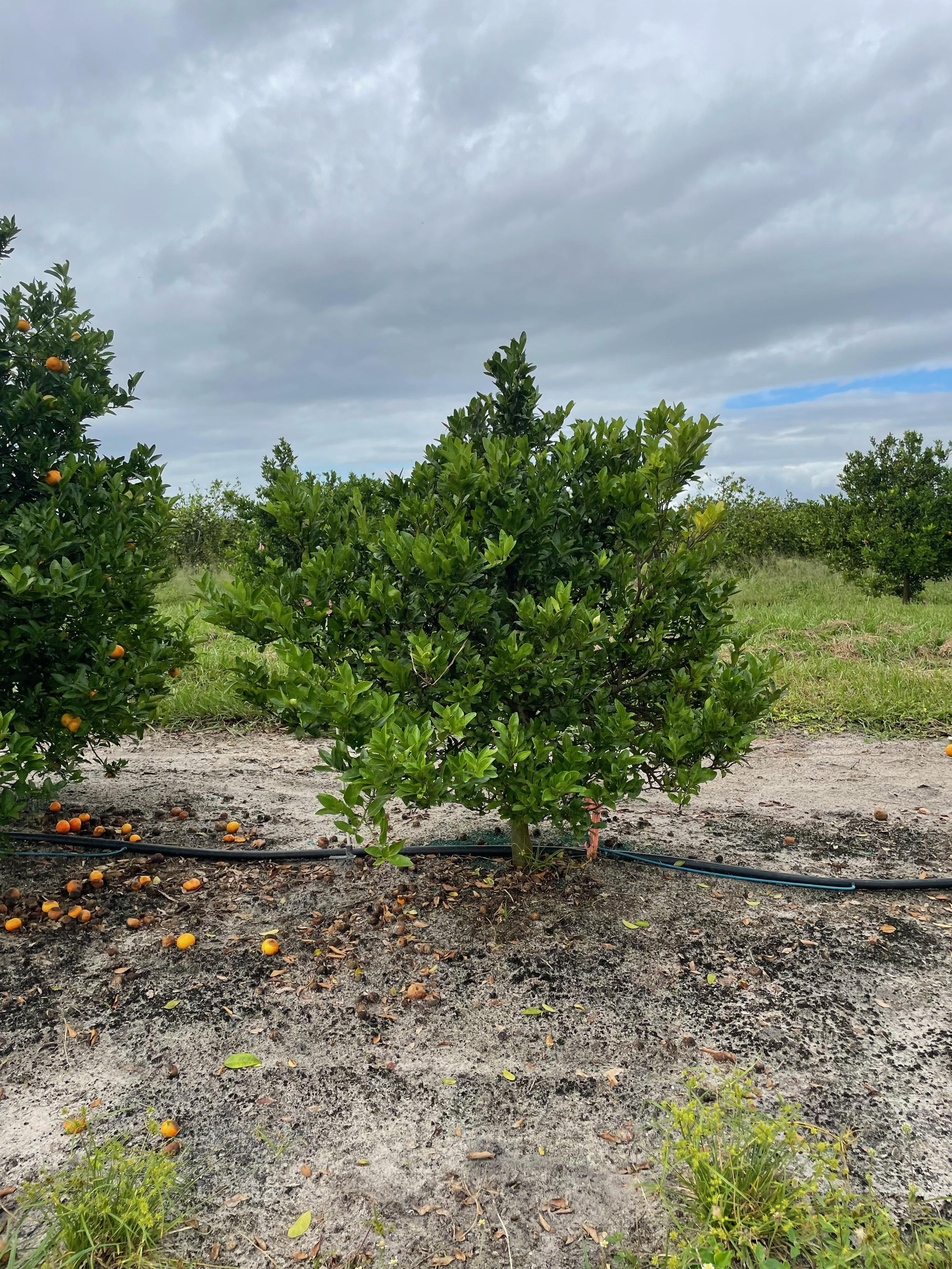fruit_on_ground: (42, 467, 65, 488), (105, 642, 127, 661), (45, 354, 64, 374), (39, 392, 60, 410), (53, 358, 71, 375), (14, 317, 32, 334), (66, 717, 83, 734), (59, 712, 75, 729), (166, 665, 181, 679)
fruit_on_tree: (62, 1113, 87, 1134), (158, 1117, 181, 1139), (259, 936, 280, 957), (176, 932, 195, 950), (40, 898, 61, 914), (65, 878, 84, 895), (4, 914, 23, 931), (46, 905, 65, 921), (182, 876, 202, 891), (66, 903, 85, 918), (872, 805, 889, 821), (66, 815, 83, 831), (3, 886, 20, 901), (77, 907, 93, 922), (88, 868, 104, 883), (54, 818, 70, 833), (225, 820, 241, 834), (782, 832, 797, 846), (48, 799, 63, 813), (91, 824, 107, 837), (221, 831, 236, 844), (77, 811, 92, 824), (126, 916, 142, 928), (138, 874, 153, 886), (120, 821, 133, 834), (128, 832, 142, 844), (169, 805, 183, 816), (944, 741, 952, 759), (130, 880, 142, 891)
